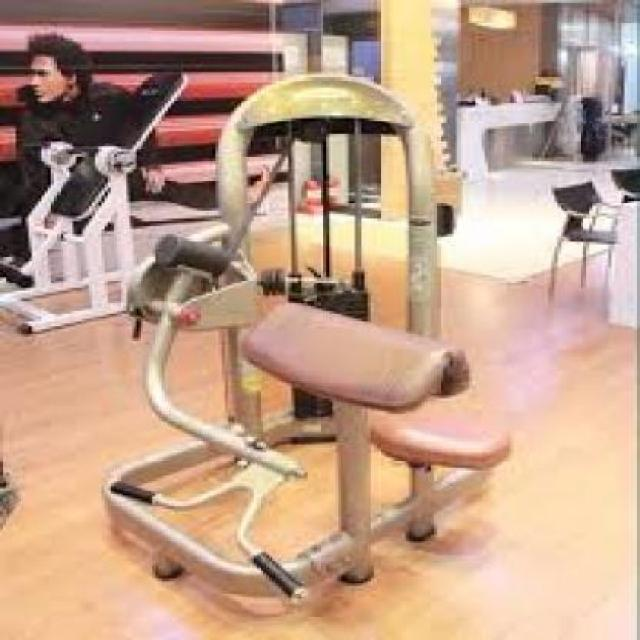arm curl machine: (106, 229, 512, 609)
